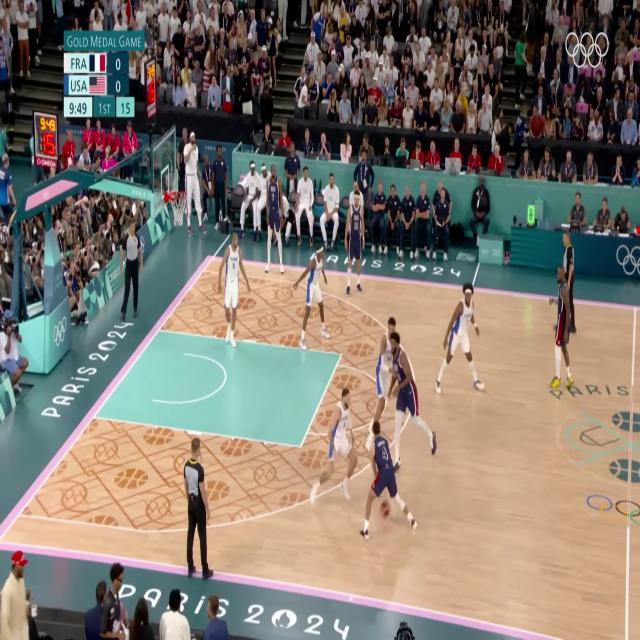ball-handler: (363, 421, 417, 557)
player: (390, 331, 446, 463), (438, 276, 490, 400), (311, 376, 358, 508), (217, 224, 252, 354), (295, 232, 330, 343), (371, 313, 398, 438), (550, 264, 574, 400), (261, 162, 285, 277), (342, 190, 364, 301)
